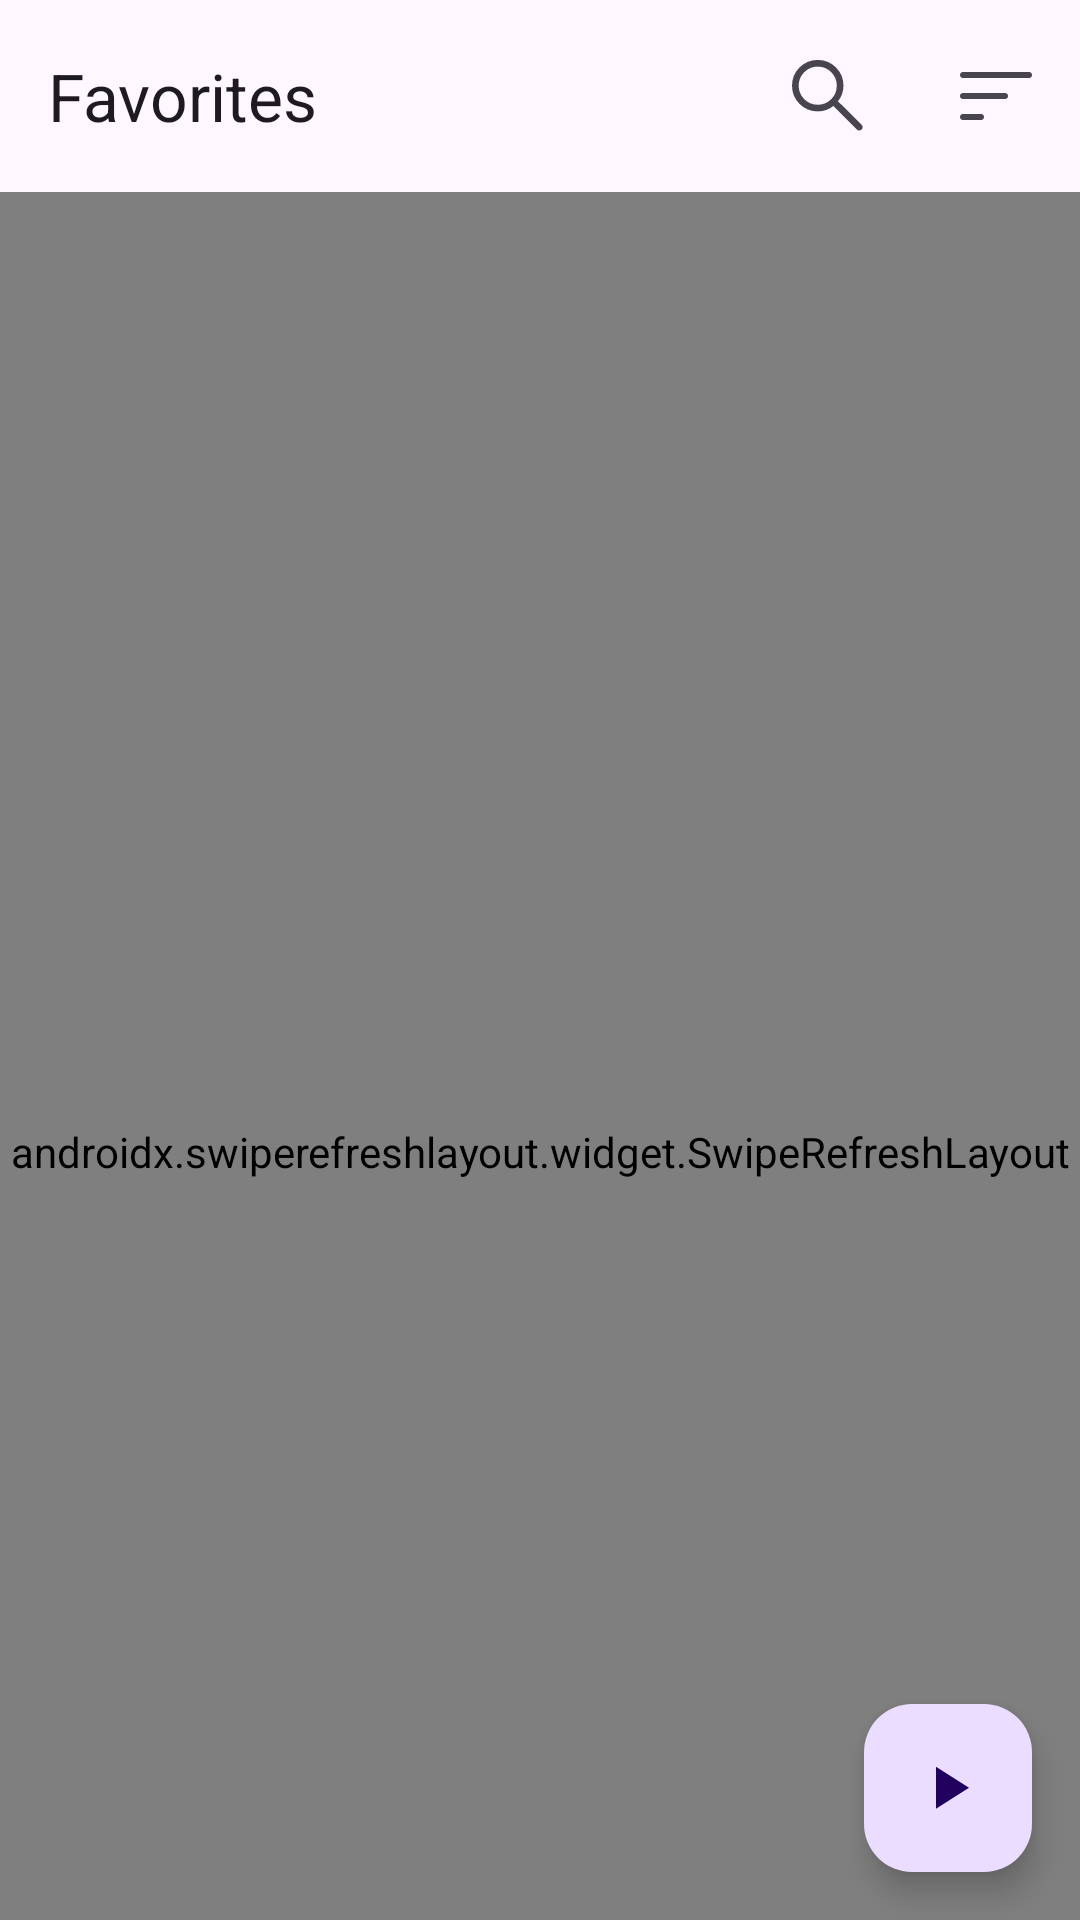

Where icons sit on this 1080*1920 app screen, as (x1, y1, x2, y2):
mediacontroller play arrow: (864, 1704, 1032, 1872)
